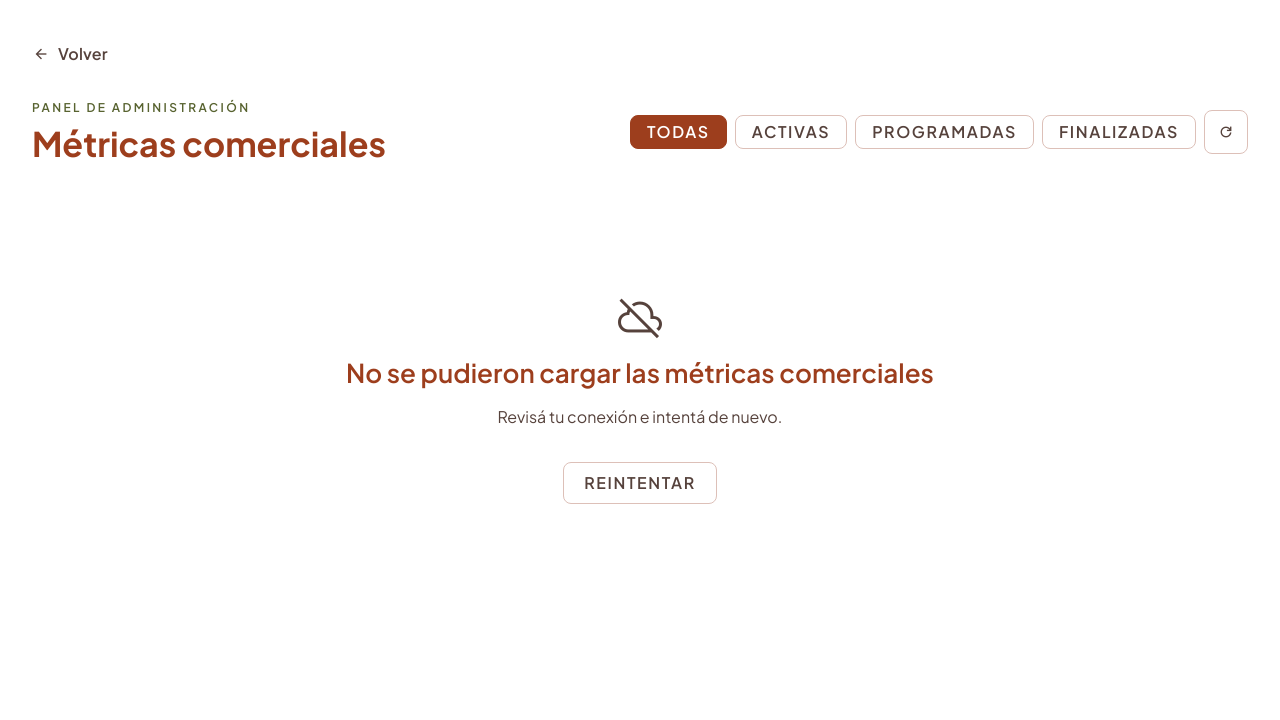
Test: AdminMetricasComerciales › un error muestra el estado de error, y un reintento exitoso lo limpia
Click the button "Reintentar" at (640, 483), box x1=563 y1=462 x2=717 y2=504
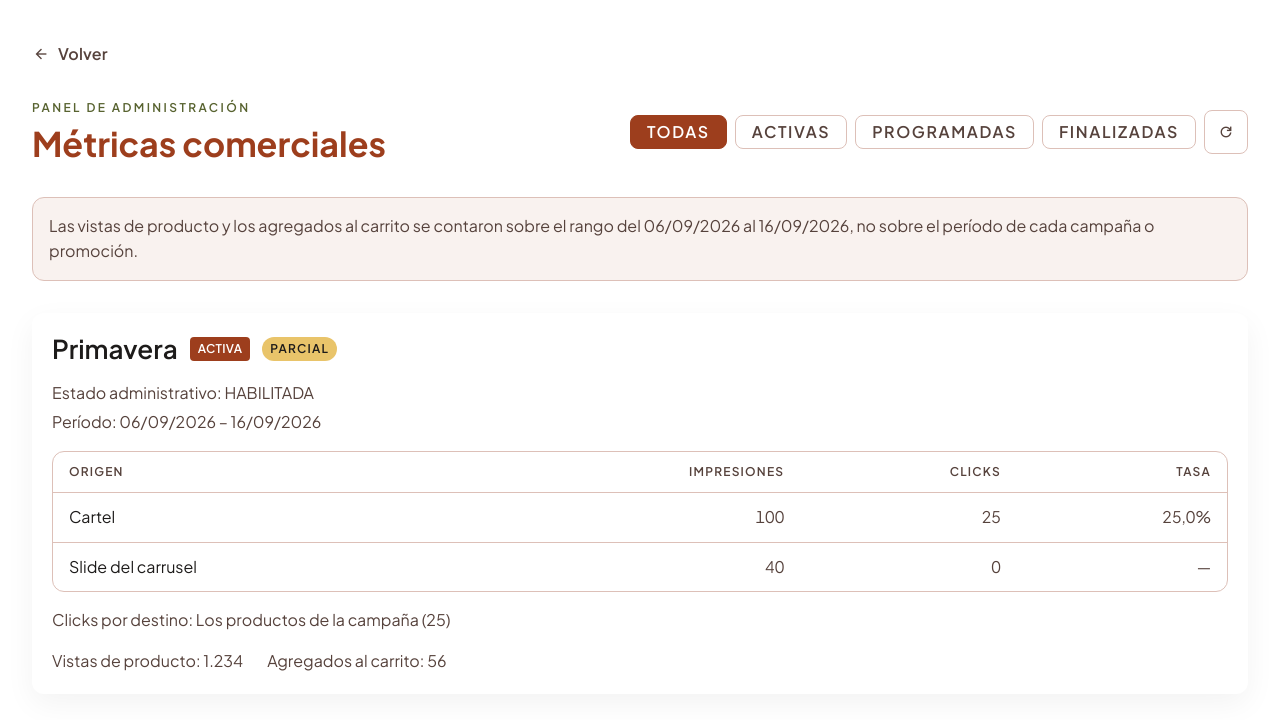
Expected: the heading "Primavera" is shown, x1=52 y1=333 x2=178 y2=365
Expected: the button "Reintentar" is gone
